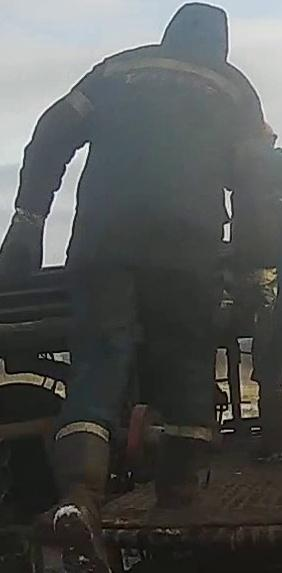gloves: (232, 249, 282, 343), (1, 203, 48, 289)
vest: (66, 36, 233, 286)
